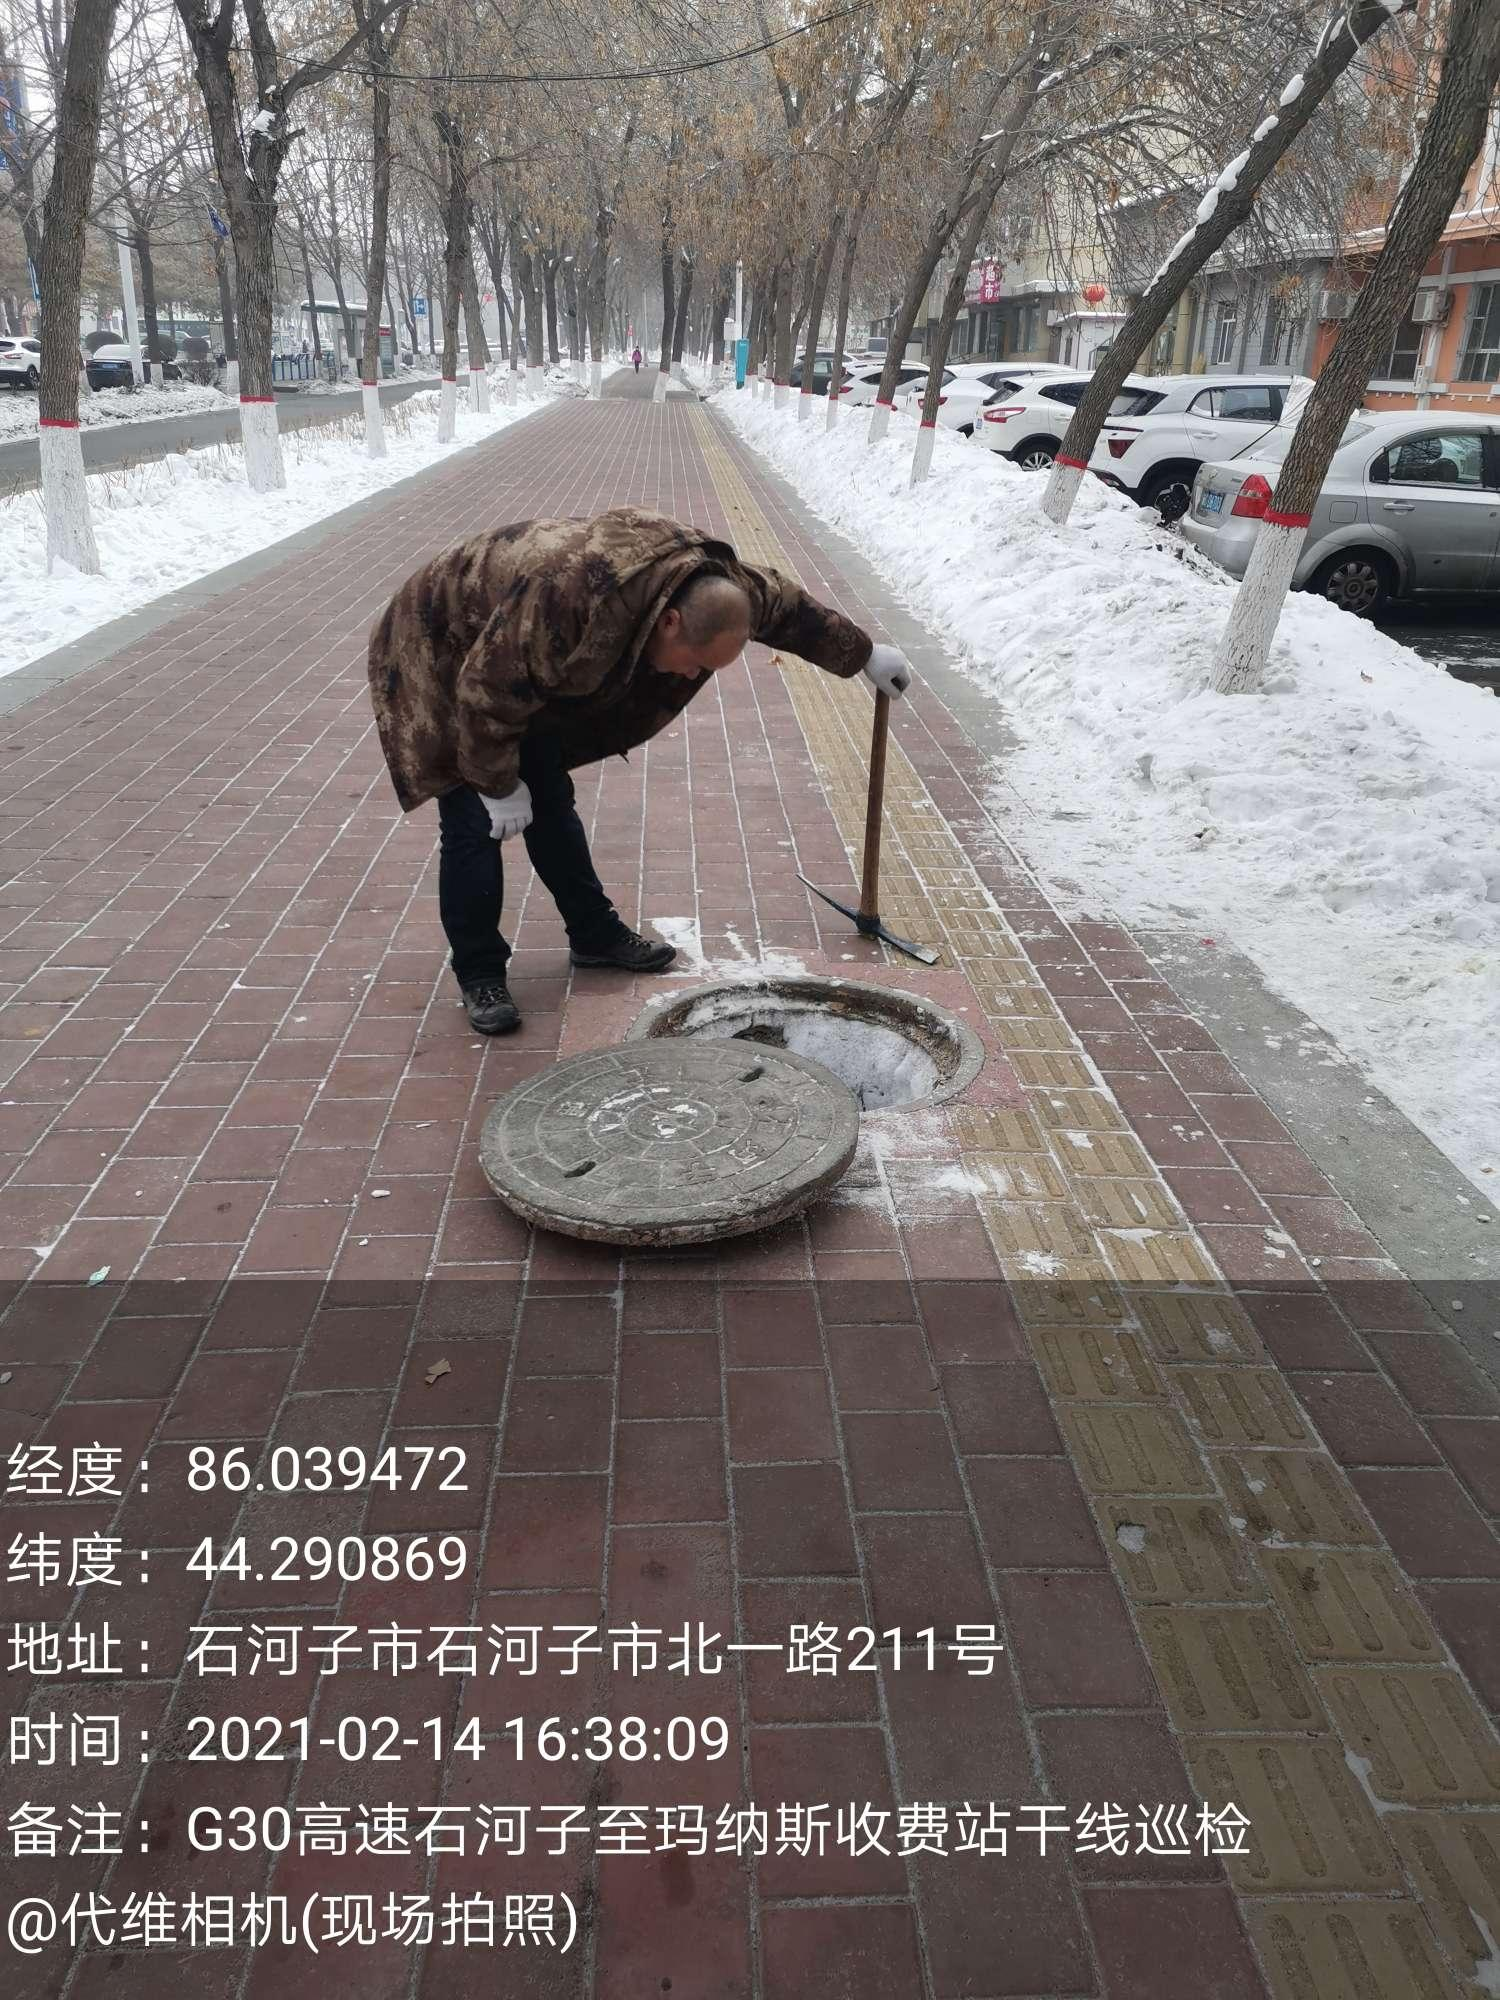wellcover: (462, 957, 1002, 1249)
